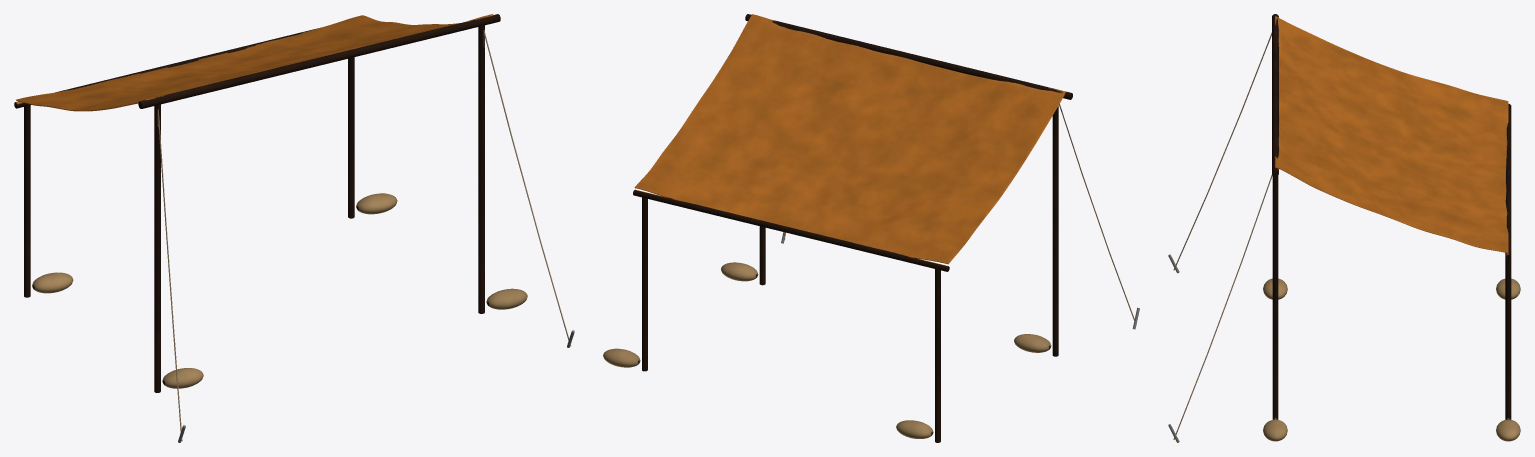
The model's file is tarp_awning.glb.
The picture shows the model from 3 angles, left to right: view 1: azimuth 30°, elevation 25°; view 2: azimuth 150°, elevation 25°; view 3: azimuth 270°, elevation 25°; orthographic projection. The views are drawn at different scales.
Parts seen in each view (by area): view 1: tarp_awning; view 2: tarp_awning; view 3: tarp_awning.
Boxes of the visible parts, x1=… form: tarp_awning: x1=14, y1=14, x2=574, y2=442; tarp_awning: x1=603, y1=14, x2=1139, y2=442; tarp_awning: x1=1168, y1=14, x2=1520, y2=442.
Bounding box in the file's own units: 3.48 × 2.47 × 2.95.
1 material, 1 textured.
